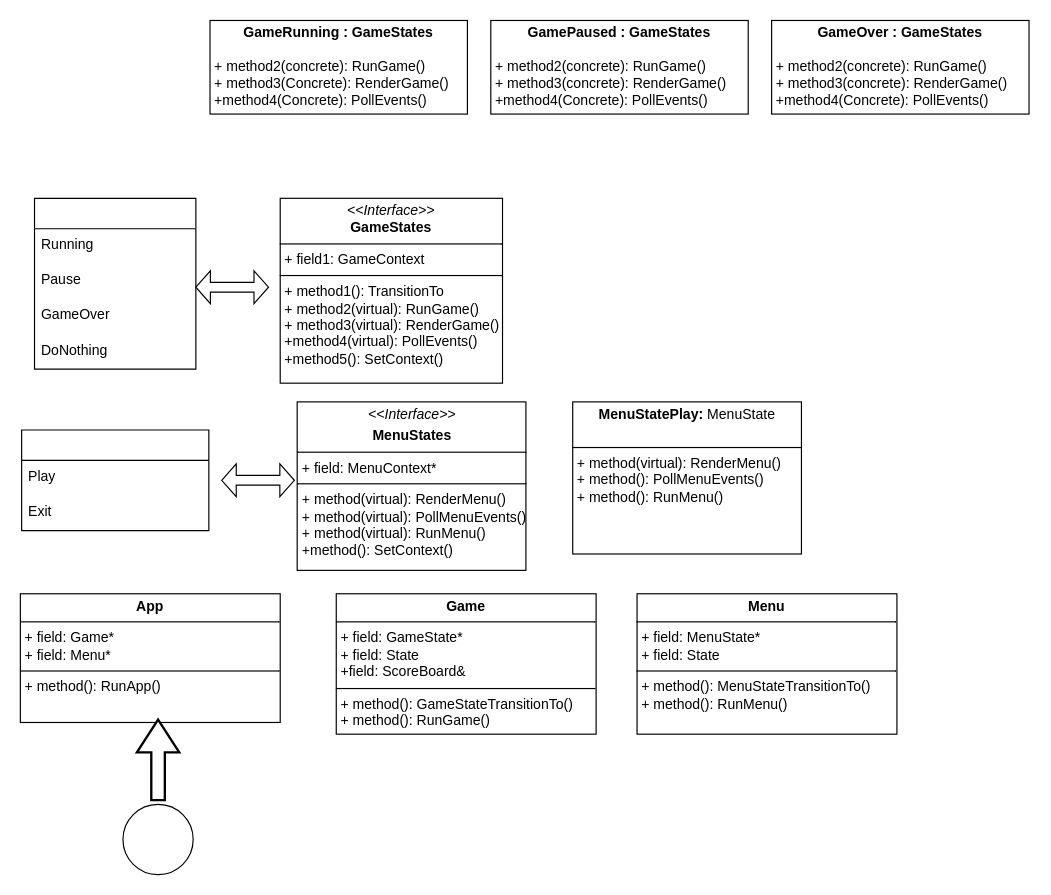
Image size: 1051x895. Some labels were removed from this diagram. Here are the shapes that lost their labels. From the top down, the box of each, then its label:
(33, 197, 196, 369): enum GameStates
(20, 429, 209, 531): MenuState
(122, 803, 193, 875): main (Entry point)
